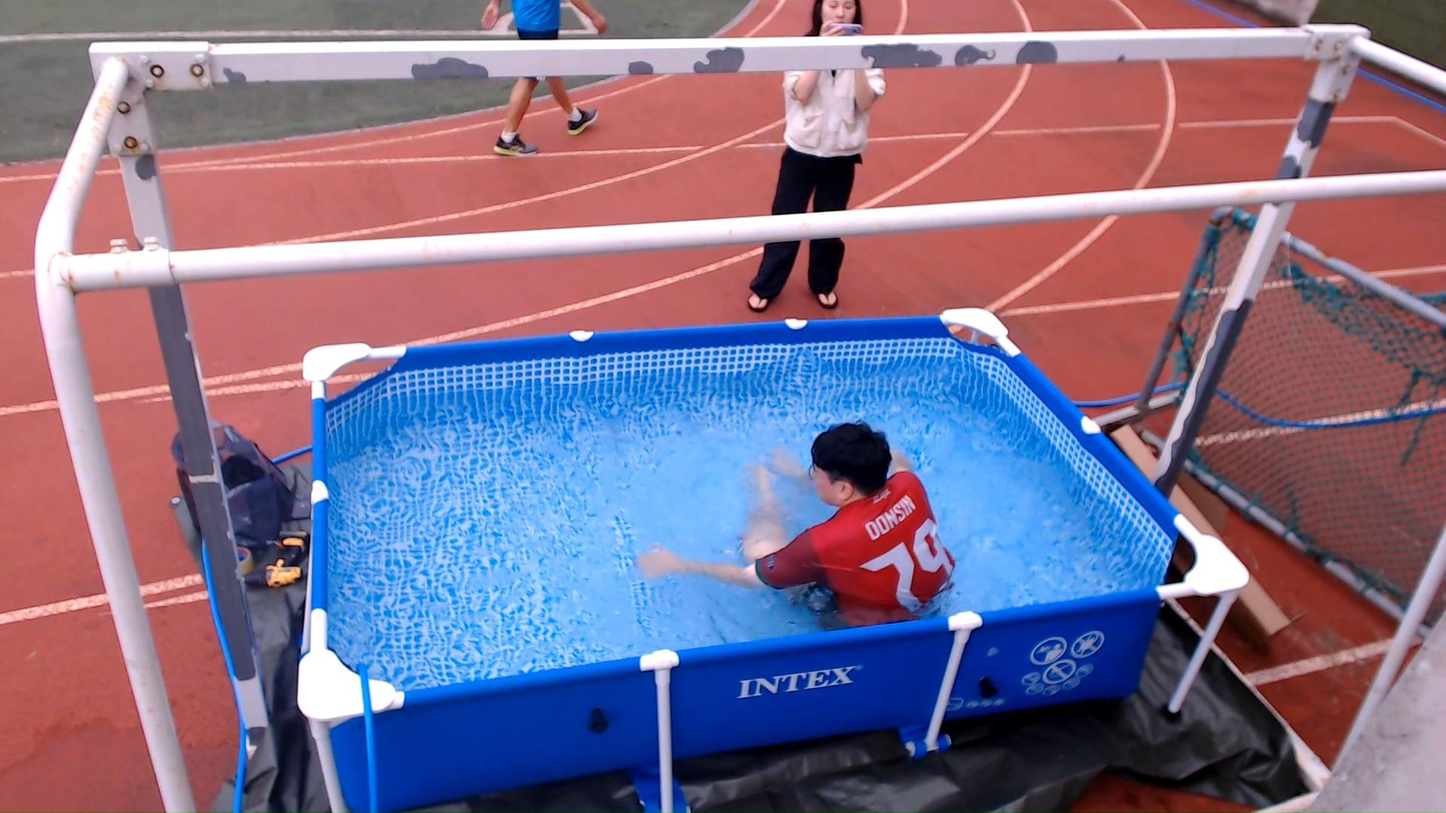Person-out-of-water: (742, 0, 931, 298), (468, 0, 633, 164)
Swimming: (574, 395, 979, 642)
